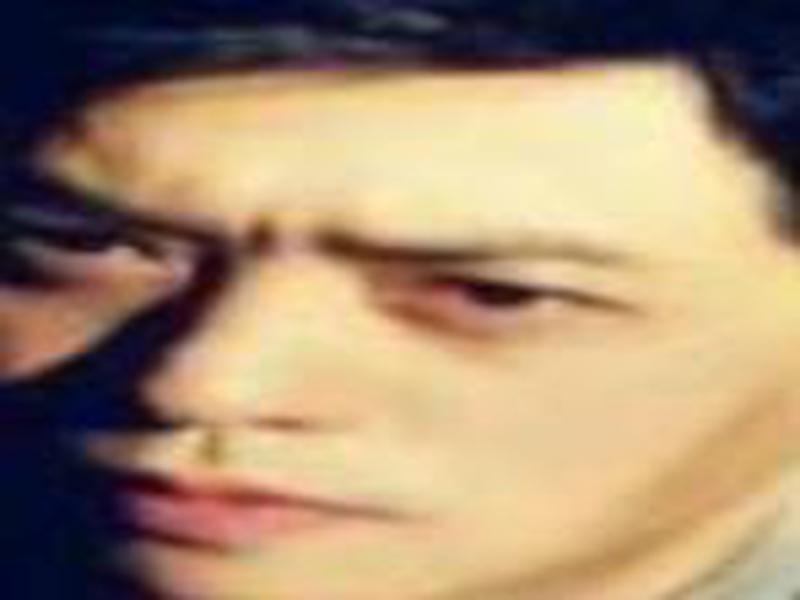without_mask: (8, 72, 756, 600)
